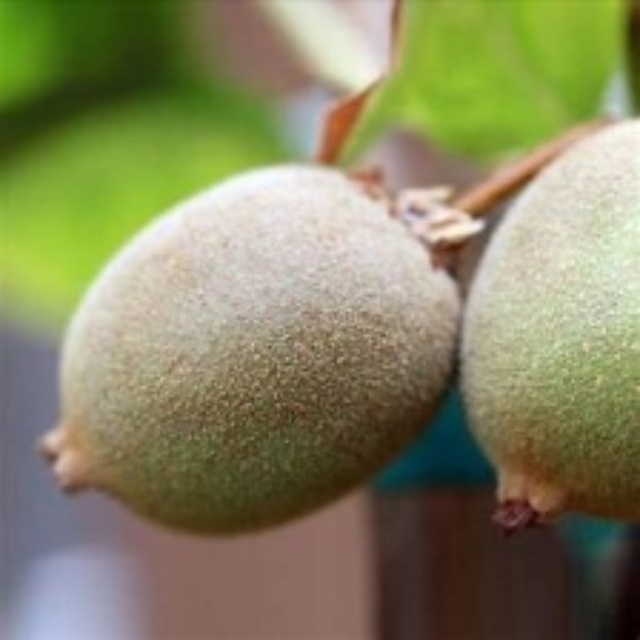kiwi: (44, 160, 471, 541), (459, 111, 639, 533)
